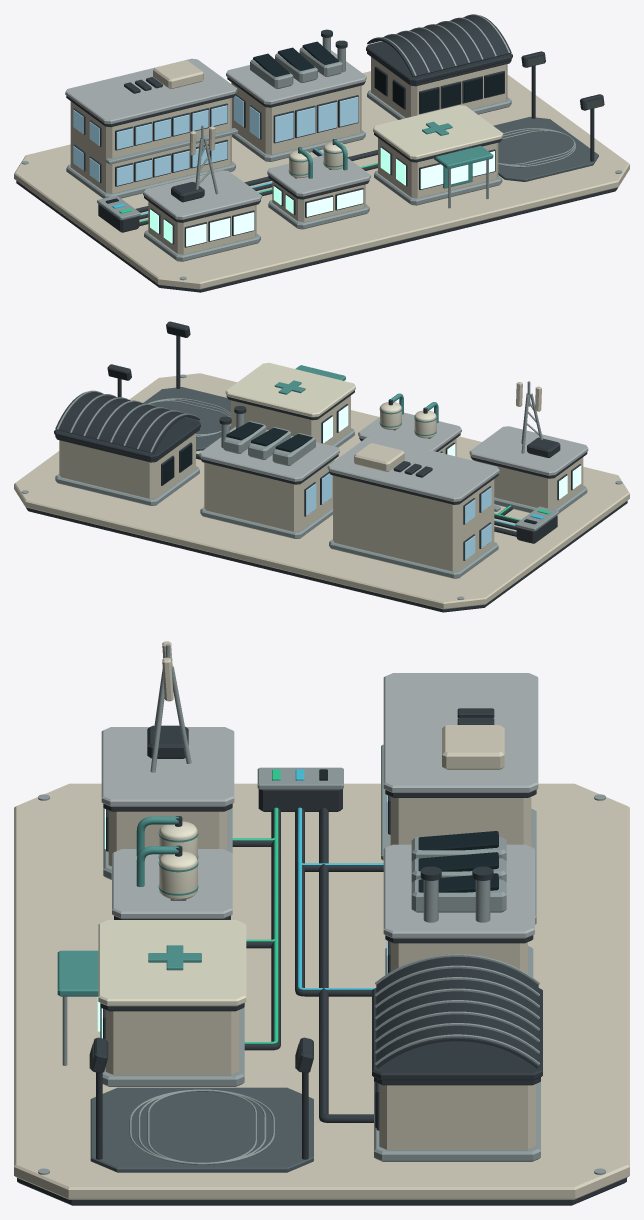
File: p2_campus_blackout_diorama.glb
3 renders of one model, top to bottom at view 1: azimuth 30°, elevation 25°; view 2: azimuth 150°, elevation 25°; view 3: azimuth 270°, elevation 25°, orthographic. The views are drawn at different scales.
Parts seen in each view (by area): view 1: Plinth, Windows (×6), Classroom block, Science laboratory, Infirmary, Broadcast station, Field and floodlights, Barrel roof, Sports hall, Drinking water pump house, Filter vessels, Distribution cabinet (+1 smaller); view 2: Plinth, Classroom block, Science laboratory, Broadcast station, Sports hall, Infirmary, Barrel roof, Field and floodlights, Windows (×5), Drinking water pump house, Filter vessels, Distribution cabinet; view 3: Plinth, Infirmary, Classroom block, Field and floodlights, Sports hall, Science laboratory, Broadcast station, Barrel roof, Buried cable channels, Drinking water pump house, Priority circuits, Filter vessels (+1 smaller).
Boxes of the visible parts, x1,y1,x2,y2 form: Plinth: (14, 71, 629, 292); Windows (×6): (73, 66, 504, 247); Classroom block: (65, 58, 238, 198); Science laboratory: (226, 29, 366, 161); Infirmary: (373, 105, 503, 208); Broadcast station: (143, 125, 261, 261); Field and floodlights: (493, 51, 604, 181); Barrel roof: (367, 14, 511, 77); Sports hall: (366, 41, 512, 119); Drinking water pump house: (267, 155, 370, 229); Filter vessels: (288, 139, 347, 178); Distribution cabinet: (97, 195, 140, 232); Plinth: (14, 373, 629, 612); Classroom block: (327, 436, 500, 578); Science laboratory: (199, 406, 339, 538); Broadcast station: (469, 381, 588, 513); Sports hall: (54, 417, 200, 505); Infirmary: (225, 362, 355, 447); Barrel roof: (55, 390, 199, 453); Field and floodlights: (107, 321, 230, 451); Windows (×5): (161, 404, 581, 560); Drinking water pump house: (358, 412, 461, 456); Filter vessels: (379, 393, 438, 438); Distribution cabinet: (515, 506, 558, 543); Plinth: (14, 783, 629, 1205); Infirmary: (57, 920, 246, 1086); Classroom block: (381, 673, 538, 924); Field and floodlights: (89, 1037, 313, 1172); Sports hall: (372, 988, 542, 1161); Science laboratory: (383, 831, 534, 977); Broadcast station: (101, 641, 234, 879); Barrel roof: (375, 954, 539, 1068); Buried cable channels: (232, 808, 383, 1122); Drinking water pump house: (112, 849, 232, 919); Priority circuits: (232, 807, 383, 1116); Filter vessels: (136, 816, 198, 900).
Size of the model in its own units: 21.8 by 5.52 by 14.
